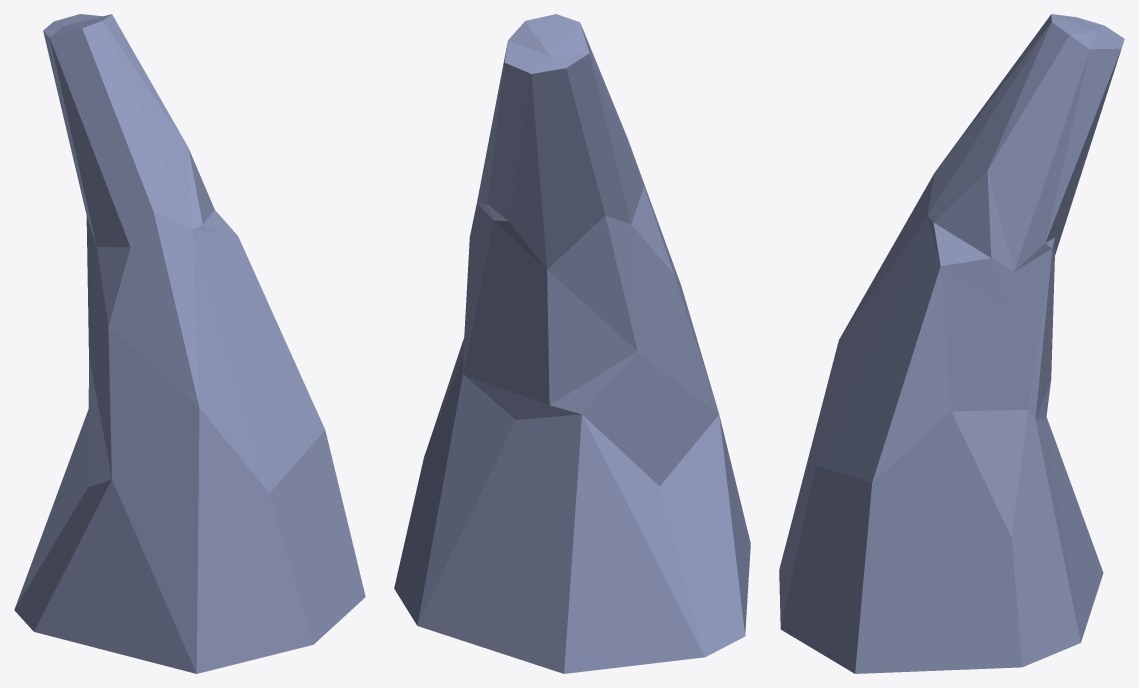
File: Rock_28.fbx
3 views of the same model, side by side, from view 1: azimuth 30°, elevation 25°; view 2: azimuth 150°, elevation 25°; view 3: azimuth 270°, elevation 25° (orthographic). The views are drawn at different scales.
Visible parts, largest first — view 1: Rock_28; view 2: Rock_28; view 3: Rock_28.
Boxes of the visible parts, left/top/right/bottom form: Rock_28: left=14, top=14, right=365, bottom=673; Rock_28: left=394, top=14, right=750, bottom=673; Rock_28: left=779, top=14, right=1124, bottom=673.
Size of the model in its own units: 3.41 by 6.27 by 3.46.
